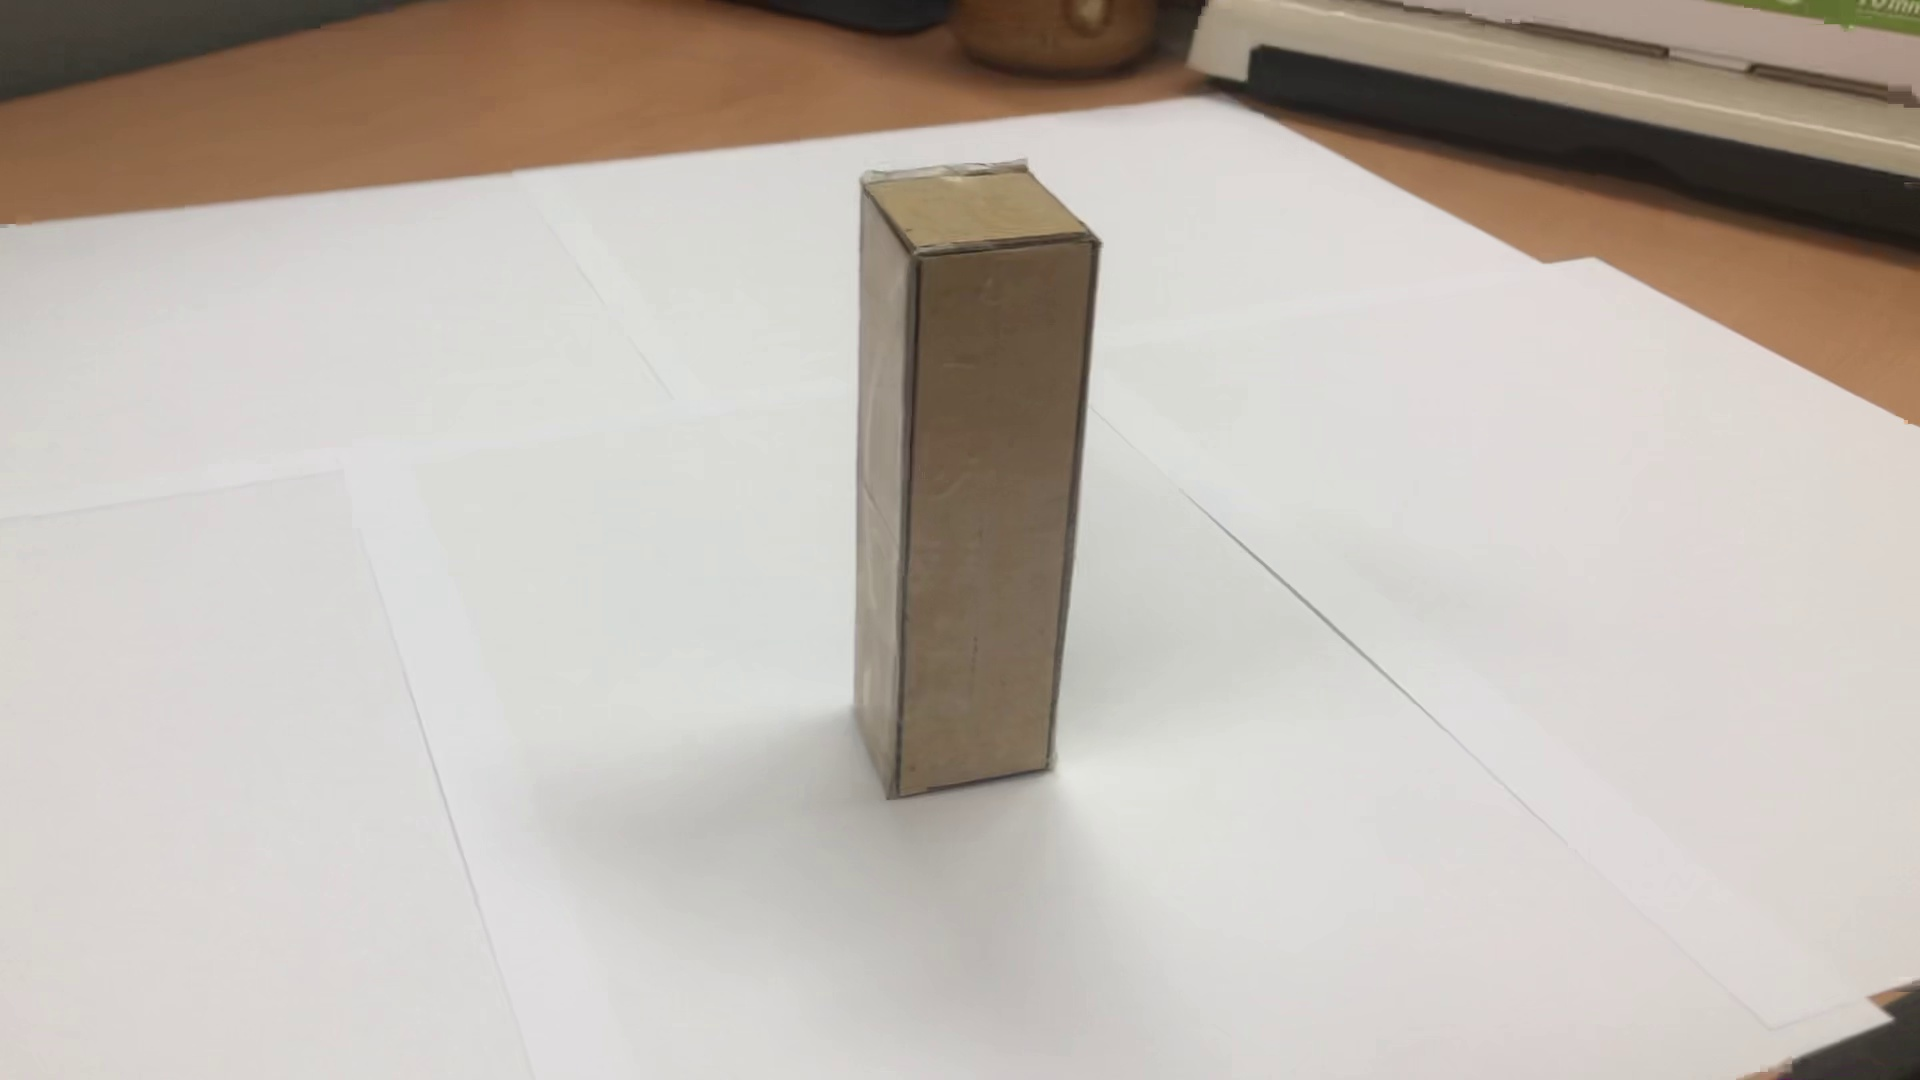box: (837, 148, 1113, 806)
